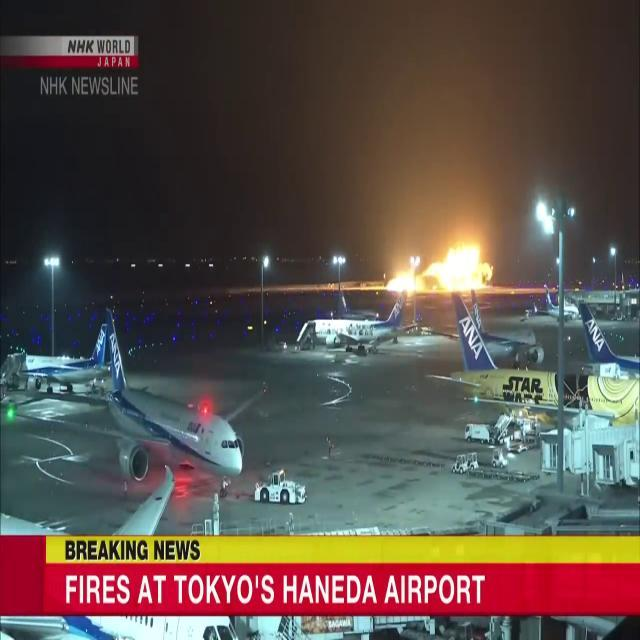Fire: (384, 234, 496, 297)
Smoke: (289, 2, 640, 210)
